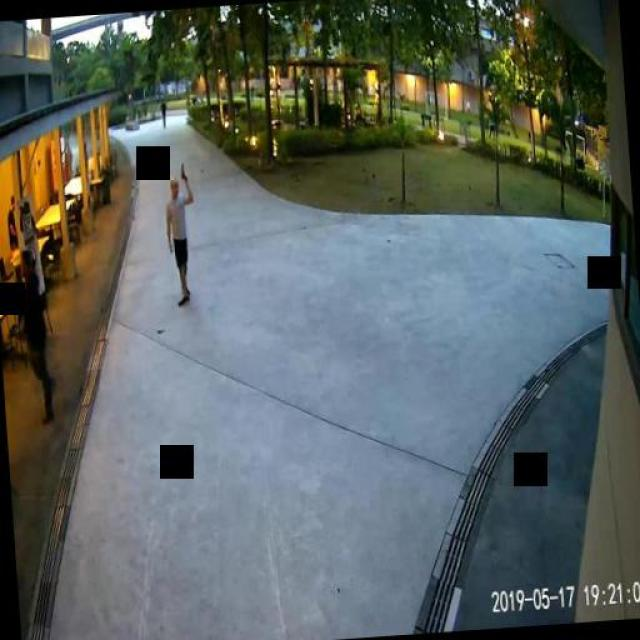gun: (178, 161, 188, 180)
